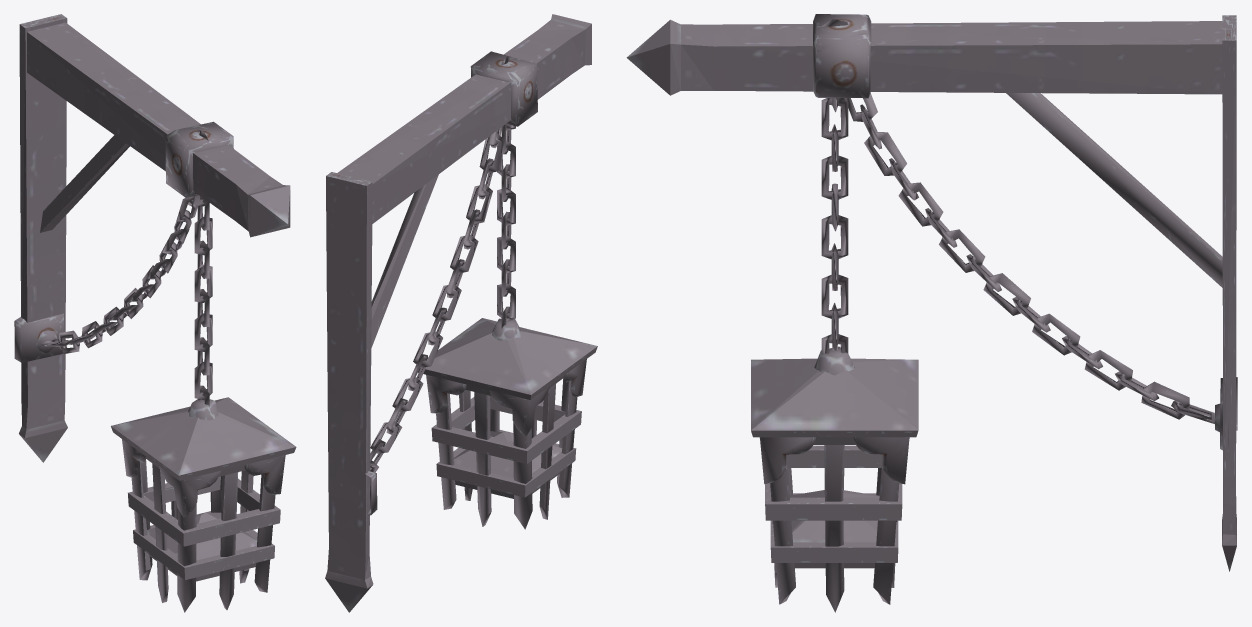
File: lantern.lod1.gltf
3 renders of one model, left to right at view 1: azimuth 30°, elevation 25°; view 2: azimuth 150°, elevation 25°; view 3: azimuth 270°, elevation 25°, orthographic. The views are drawn at different scales.
Visible parts, largest first — view 1: Lantern_Wall; view 2: Lantern_Wall; view 3: Lantern_Wall.
Boxes of the visible parts, x1,y1,x2,y2 form: Lantern_Wall: (14,14,296,612); Lantern_Wall: (325,14,597,612); Lantern_Wall: (626,14,1237,612).
Bounding box in the file's own units: 0.3574 × 1.34 × 1.3.
Materials: 1 (1 with a texture image).
